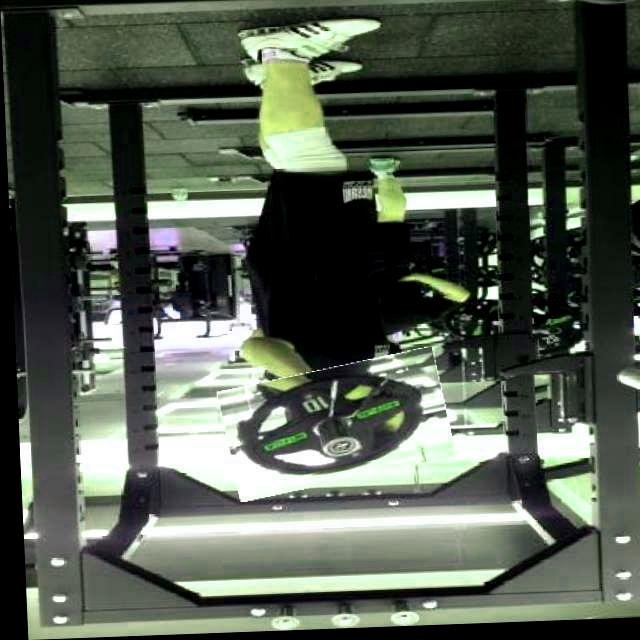barbell: (217, 359, 449, 495)
